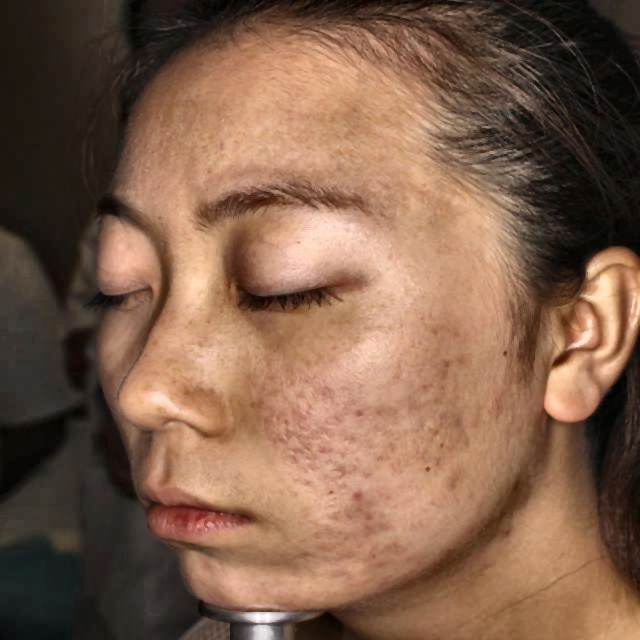comedone: (323, 484, 387, 532), (373, 533, 405, 579), (437, 463, 467, 497)
